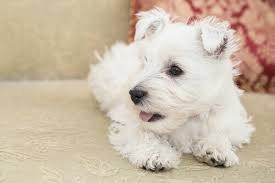dog: (89, 14, 255, 172)
